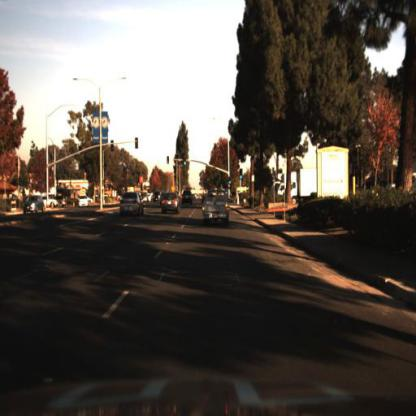car: (199, 189, 230, 226), (118, 189, 147, 221), (160, 188, 183, 218), (22, 190, 46, 216), (24, 198, 47, 213), (43, 194, 60, 210), (77, 194, 93, 209), (182, 191, 193, 207)
trafficLight-Green: (183, 152, 188, 170), (229, 172, 235, 186), (240, 170, 245, 185)
trafficLight-GreenLeft: (166, 151, 171, 172)
truck: (284, 166, 326, 202)
